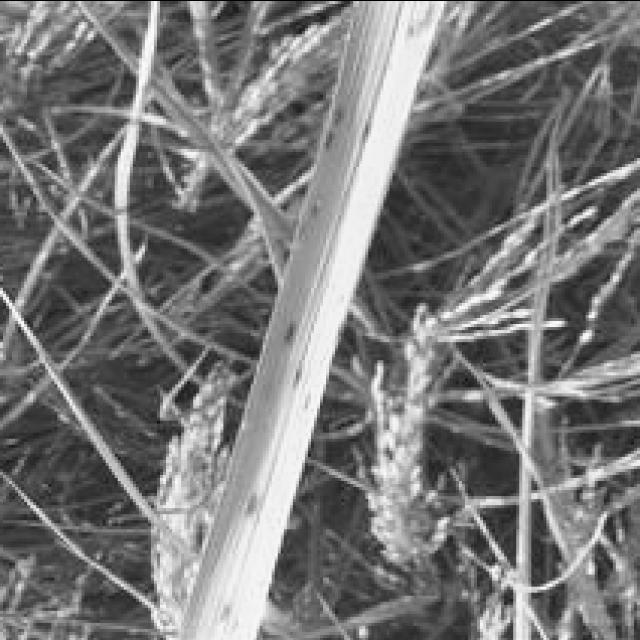Brown_Spot: (314, 91, 378, 157), (401, 0, 440, 48), (208, 595, 242, 634), (236, 474, 256, 520), (275, 308, 296, 341)
